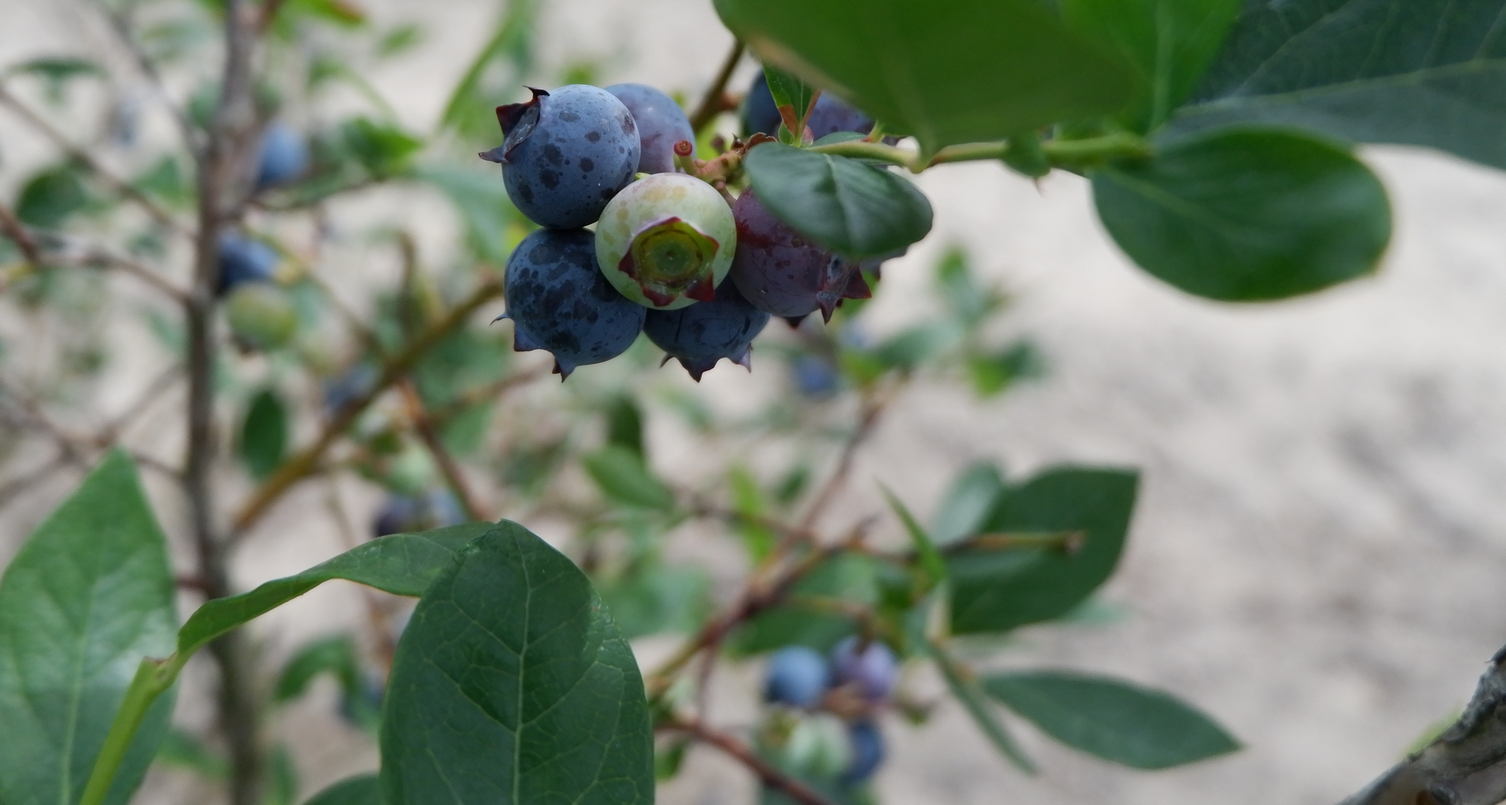Immature: (598, 177, 735, 306)
Mature: (485, 88, 634, 224), (504, 228, 642, 371), (734, 187, 864, 316), (739, 67, 905, 150), (649, 278, 769, 378), (611, 85, 691, 175)
